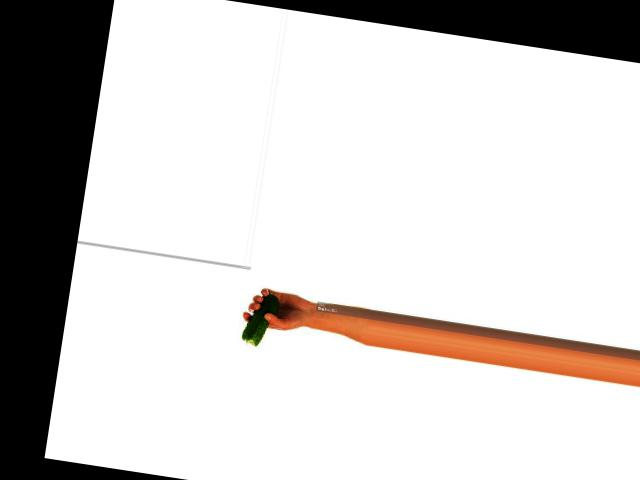cucumber: (241, 290, 280, 348)
